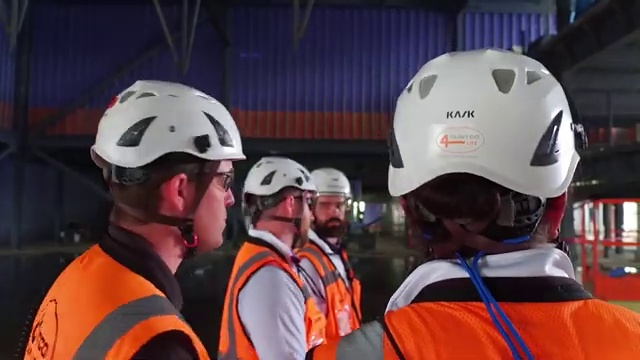helmet: (382, 42, 592, 203), (83, 70, 252, 166), (237, 154, 319, 196), (307, 162, 356, 193)
jacket: (18, 230, 209, 354), (375, 298, 640, 360), (220, 232, 318, 357), (314, 242, 364, 348)
